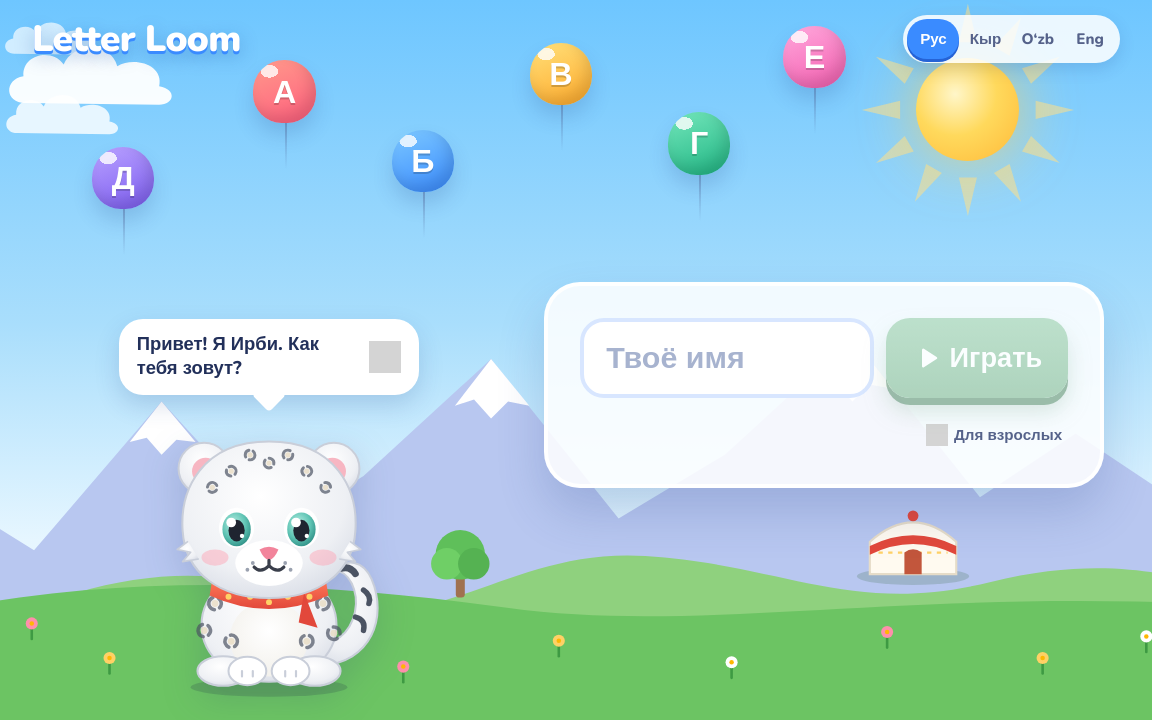
Scenario: App › switches menu language to English
The image size is (1152, 720).
Expected: the text "Привет! Я Ирби. Как тебя зовут?" is shown, [137,332,319,382]
Click the button "Eng": (1090, 39) [1064,19,1116,59]
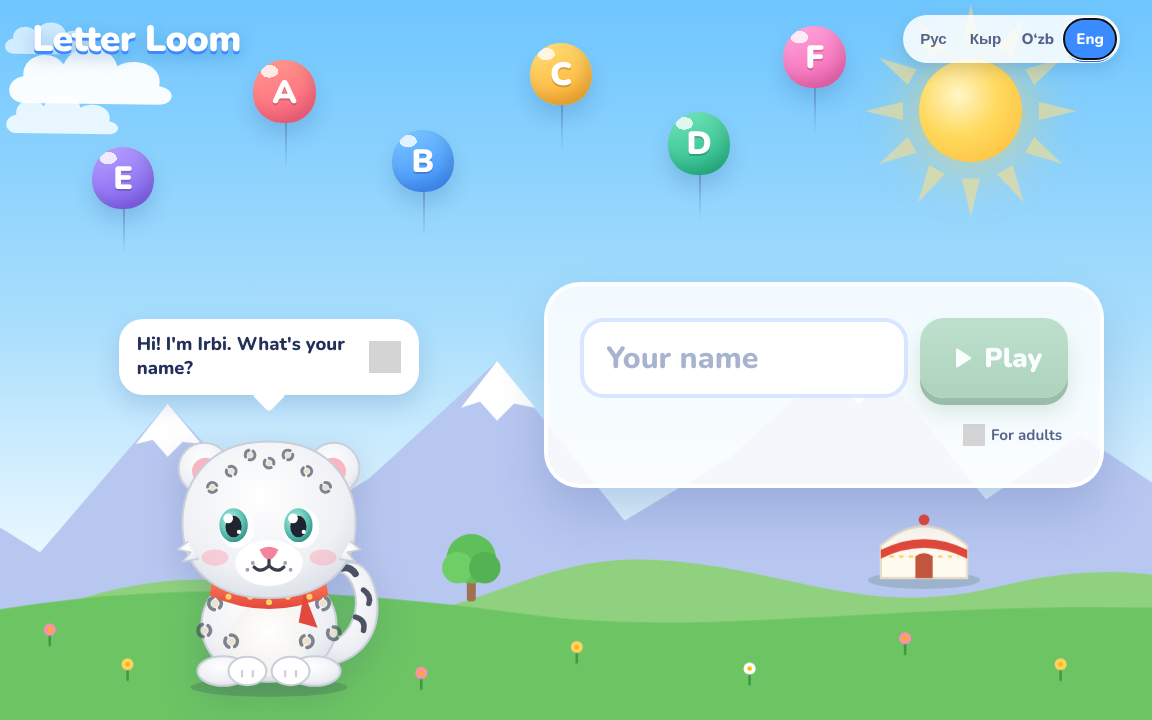
Expected: the button "Play" is shown, [920,318,1068,398]
Expected: the text "Hi! I'm Irbi. What's your name?" is shown, [137,334,359,381]
